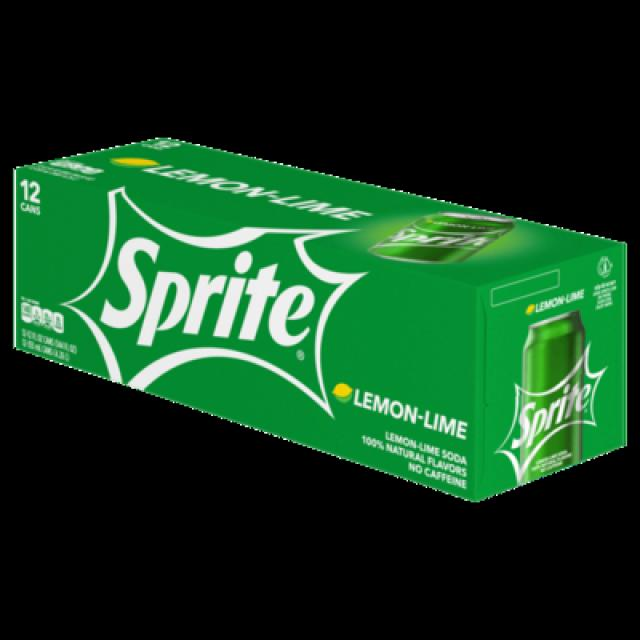sprite: (510, 309, 619, 513), (384, 194, 512, 304)
